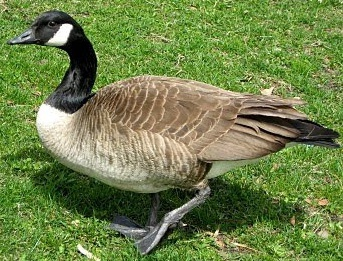goose: (4, 5, 343, 247)
